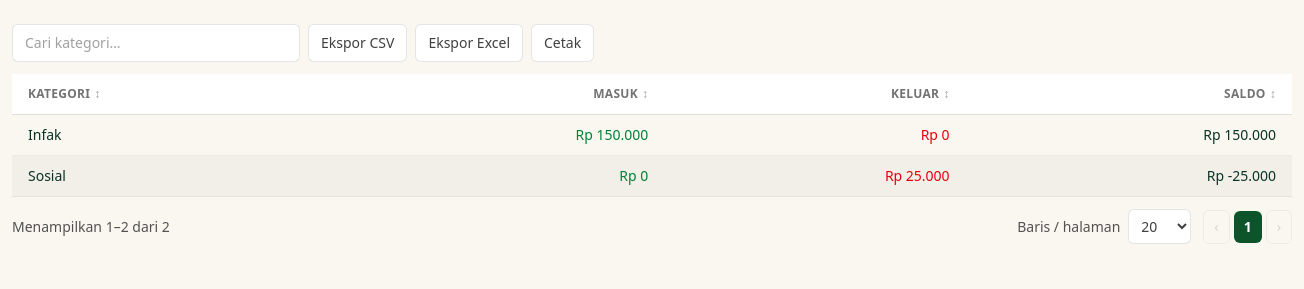
Test: unduhan ekspor tidak dibatalkan (revoke ditunda) › ekspor gagal → tidak ada blob dibuat, revoke tidak dipanggil
Click the button "Ekspor CSV".
click(358, 43)  # box [308, 24, 407, 62]
Wait 250 ms
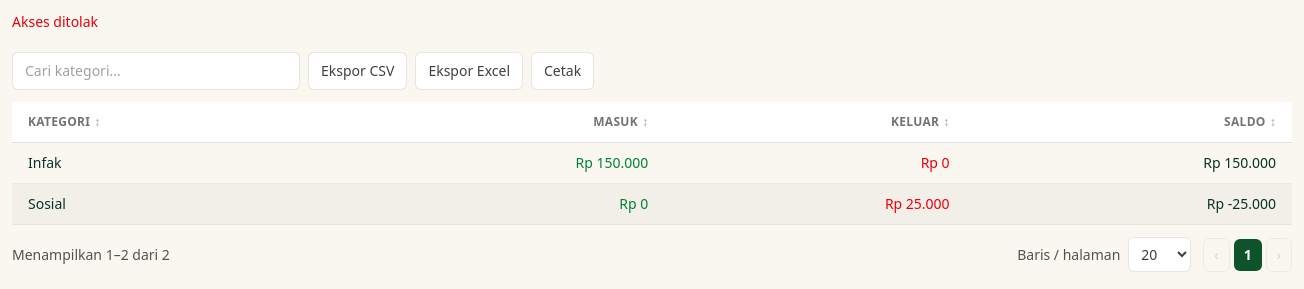
Expected: the message reads "Akses ditolak", [12, 12, 98, 31]
